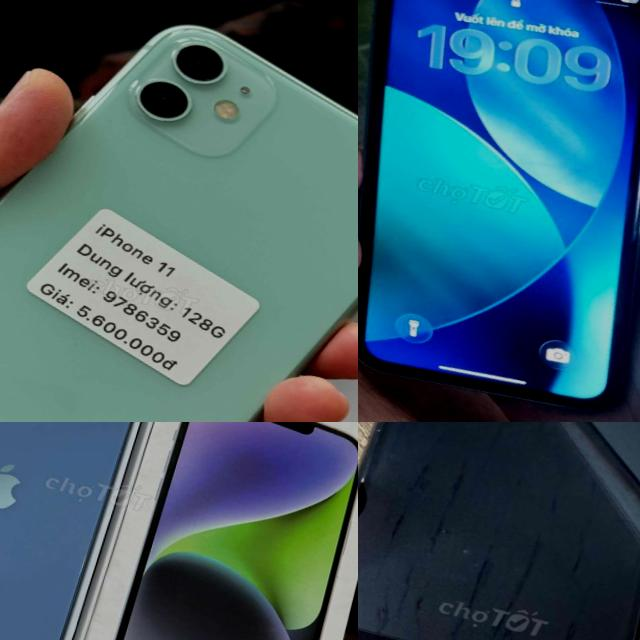gen_11: (0, 0, 358, 422), (358, 0, 640, 422)
gen_14: (0, 422, 149, 640)
gen_x_xs: (358, 422, 640, 640)
scratch: (358, 422, 407, 514)
